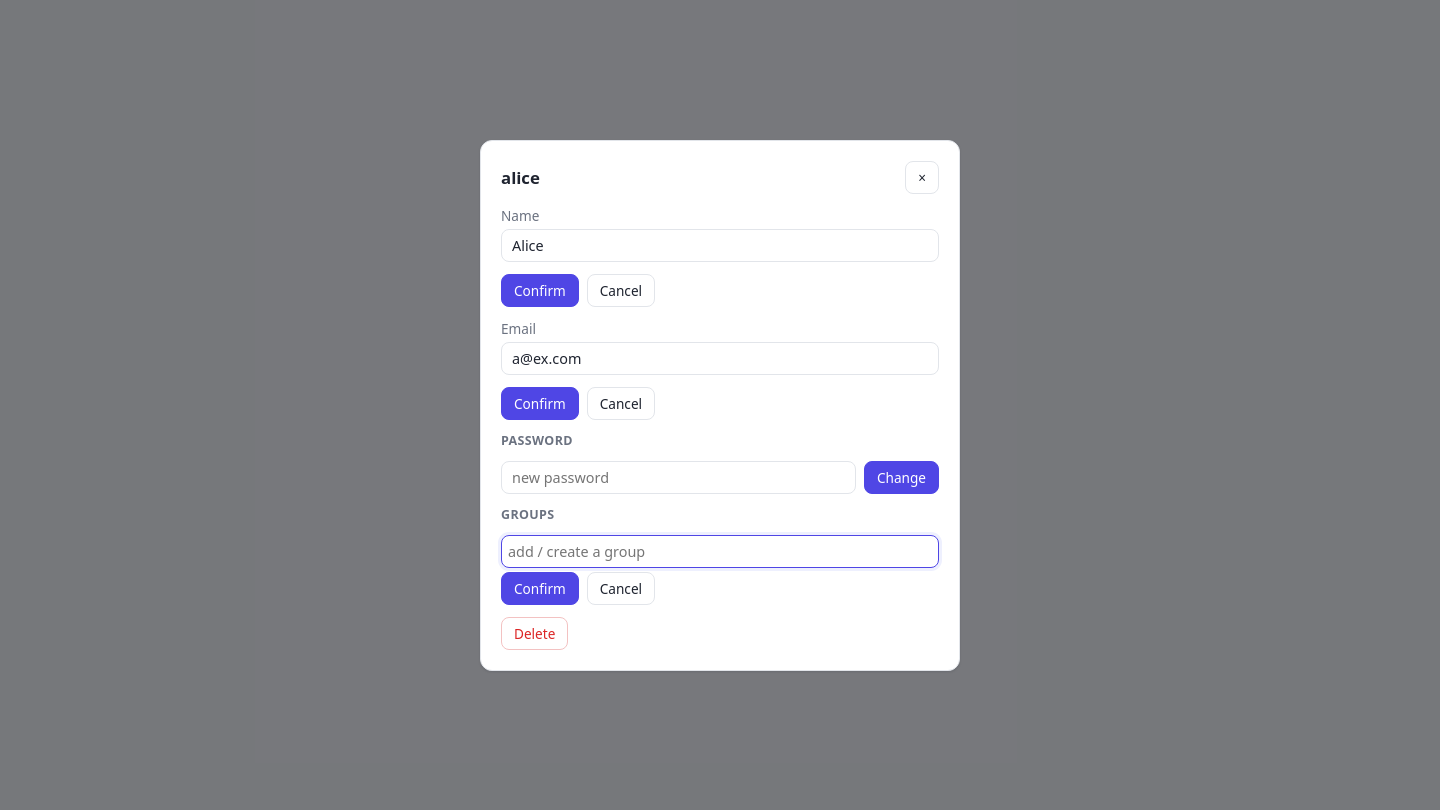
Test: save error keeps modal open with message
Clear the field with test id "modal-name-alice" at (720, 245), box [501,228,939,262]
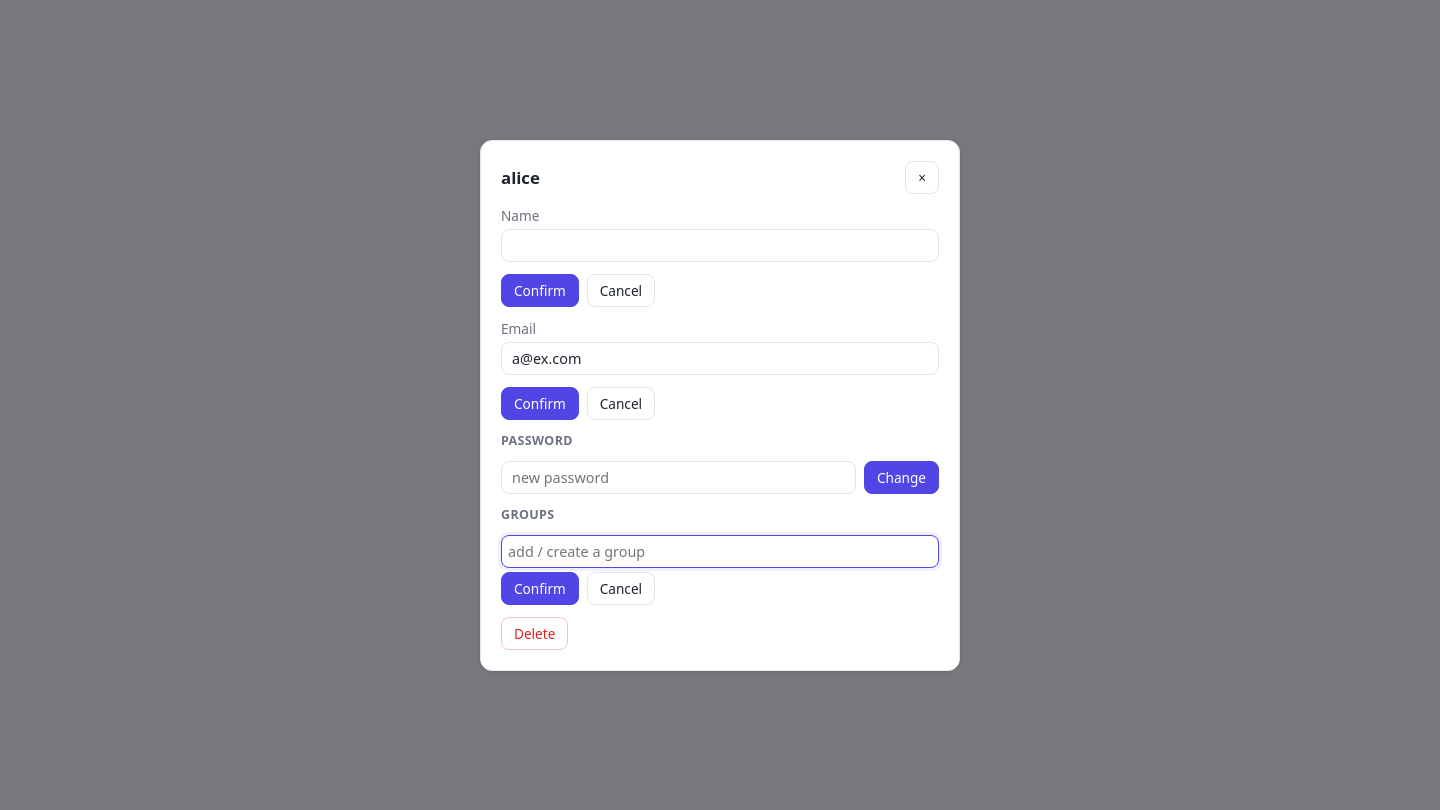
Click the button with test id "modal-name-alice-save" at (540, 290), box [501,274,579,306]
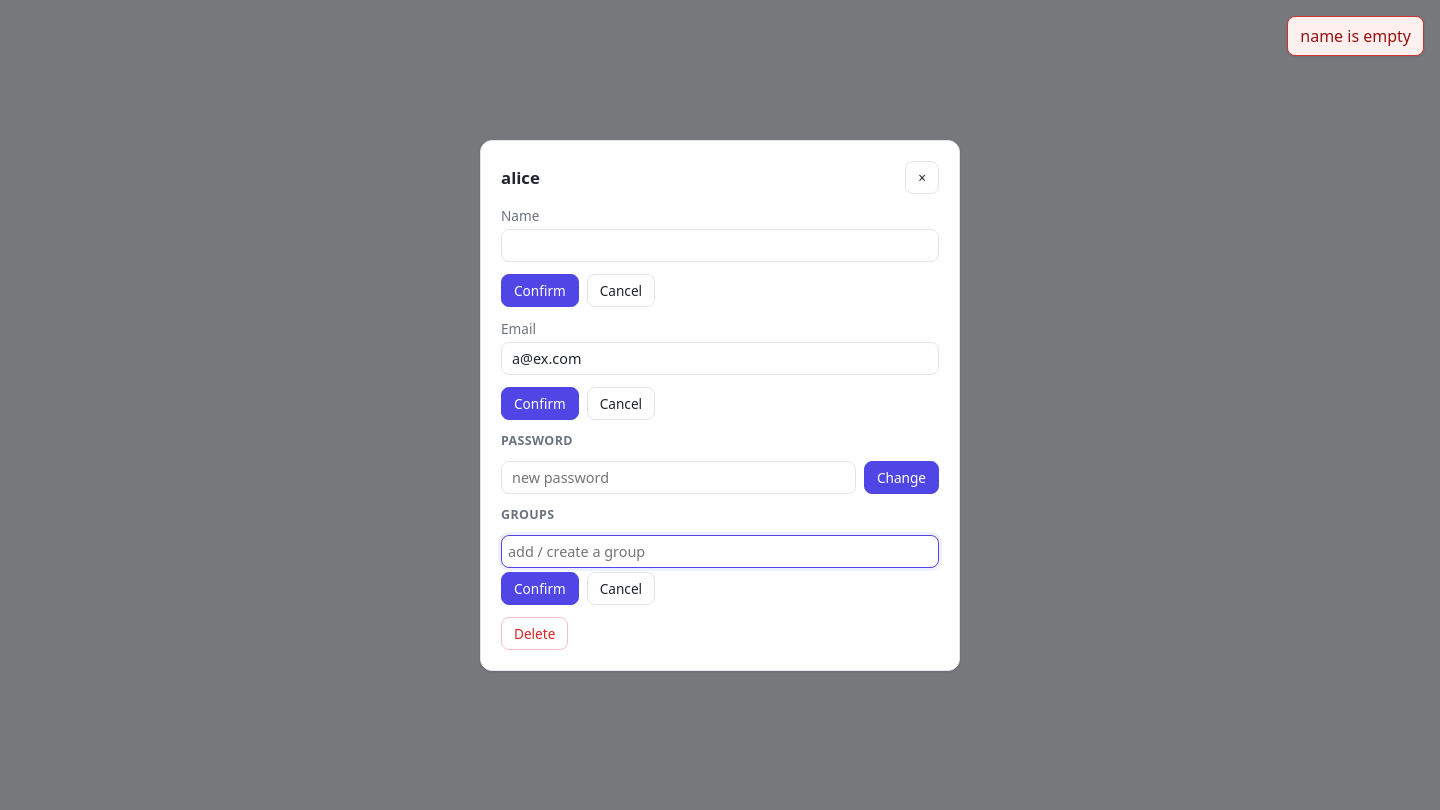
Expected: the text with test id "toast-error" reads "name is empty", [1300,25,1411,47]
